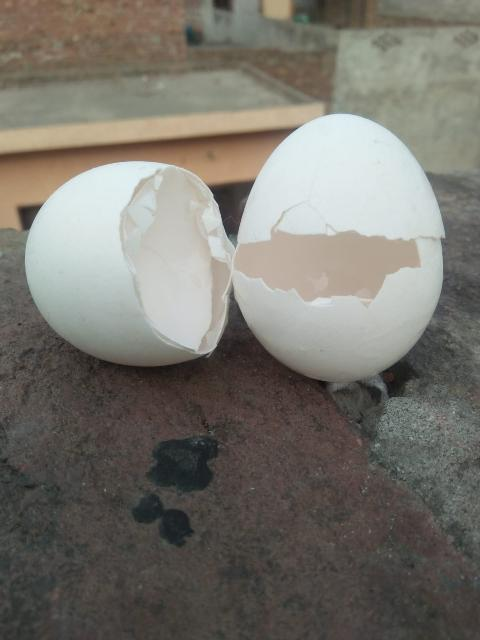Roto: (231, 112, 446, 383), (24, 159, 235, 368)
